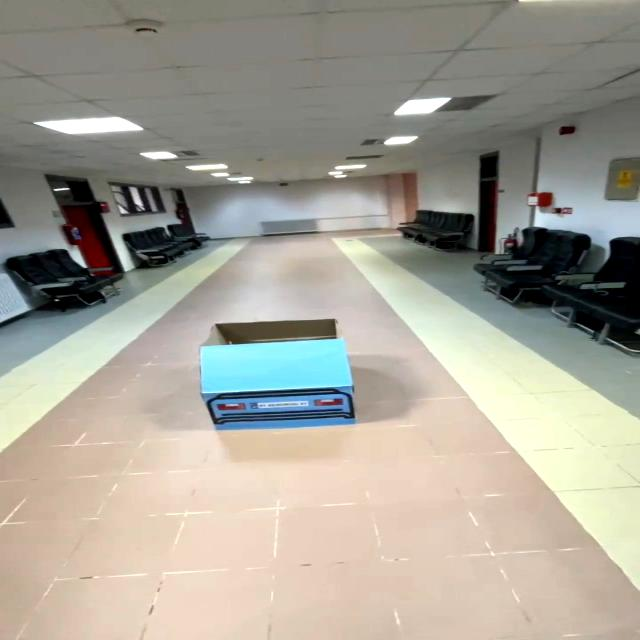blue_car: (183, 312, 376, 439)
